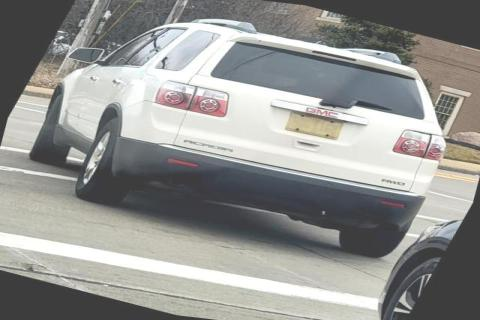LicensePlate: (282, 110, 342, 139)
